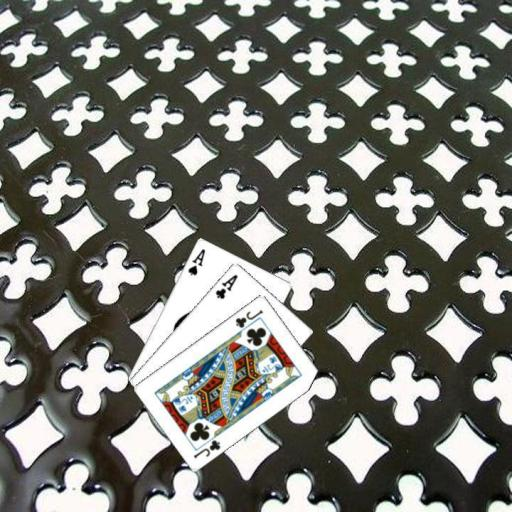card-corner: (212, 271, 240, 300), (232, 306, 264, 330), (190, 436, 222, 459), (185, 245, 206, 277)
